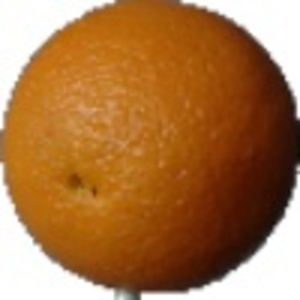laranja: (2, 1, 297, 297)
